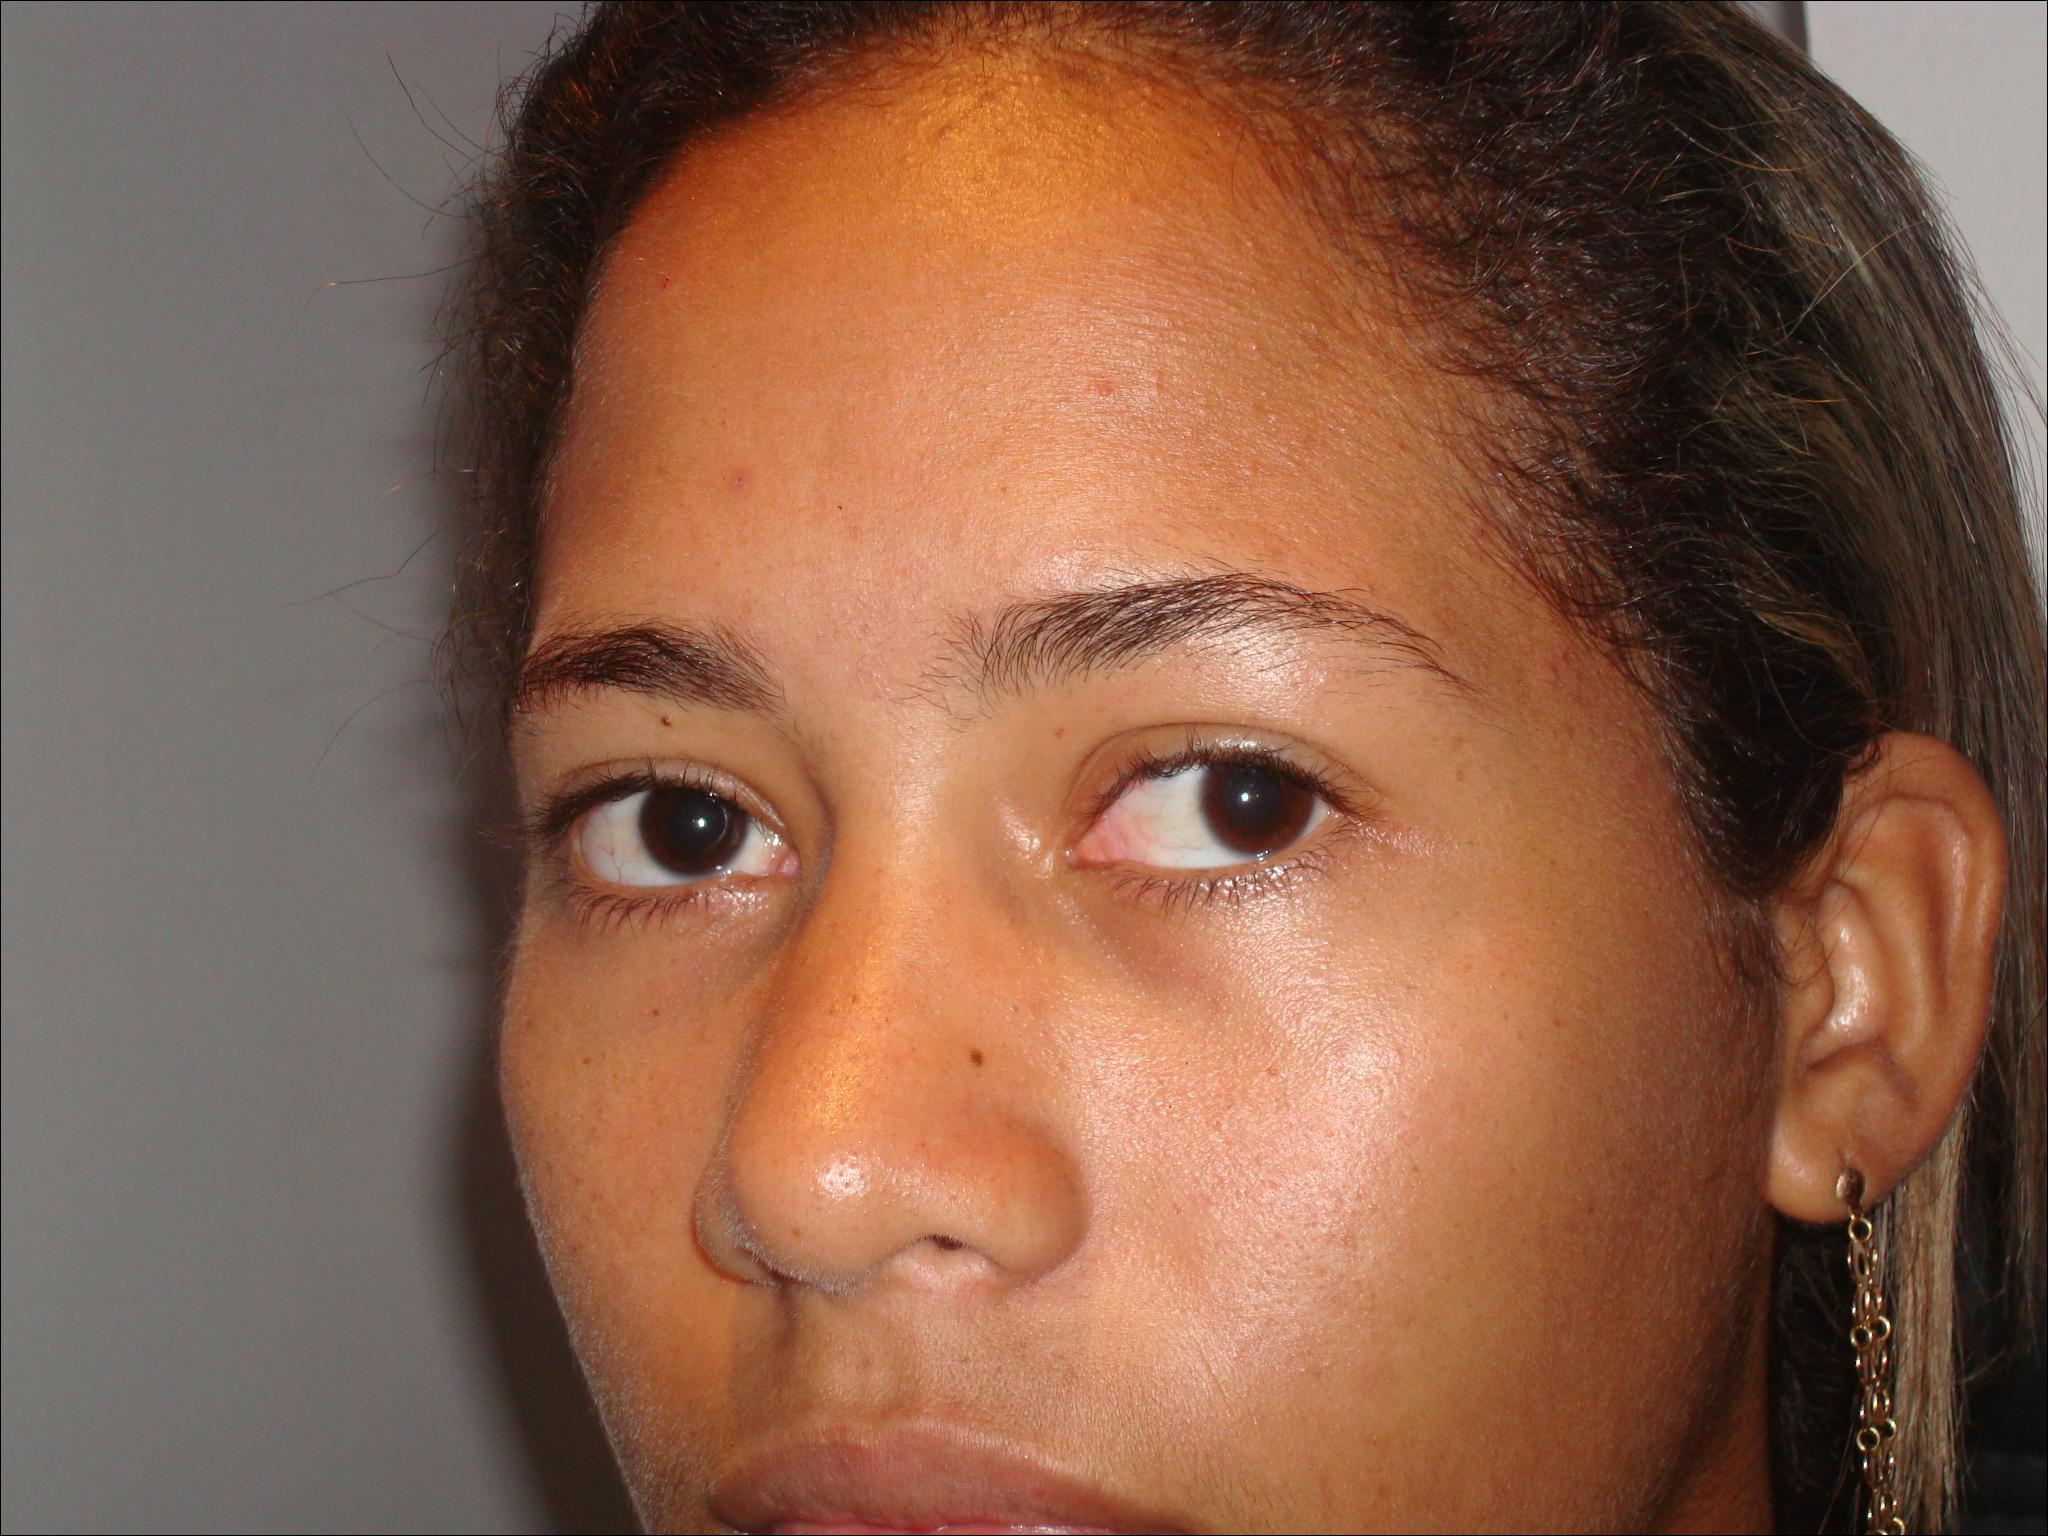flash: (690, 810, 713, 834), (1234, 786, 1256, 808)
limbo: (1195, 737, 1311, 849), (634, 766, 745, 873)
